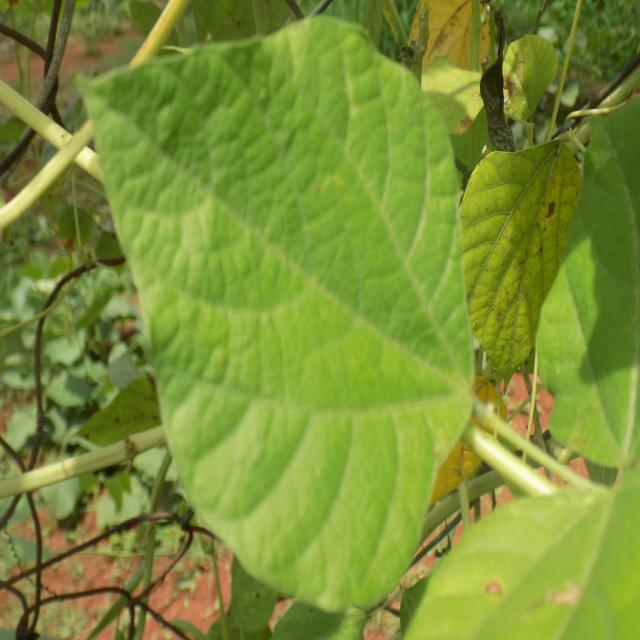Dolicos bean_healthy: (85, 17, 472, 614)
